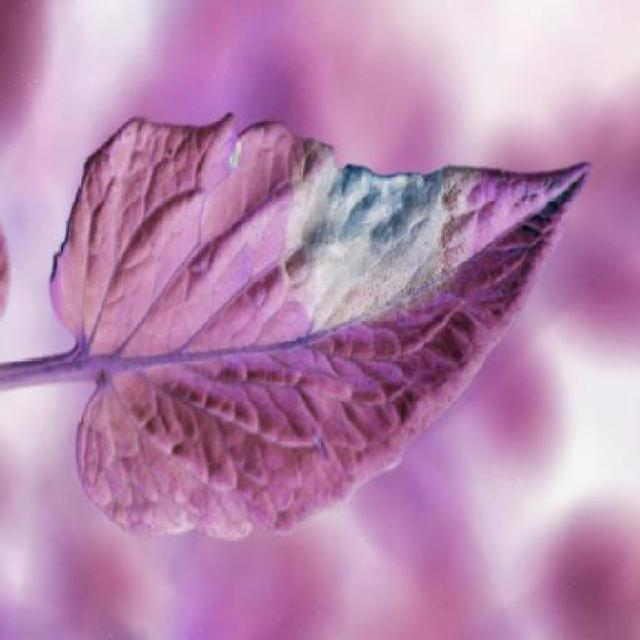Tomato mosaic virus leaf: (39, 85, 606, 552)
